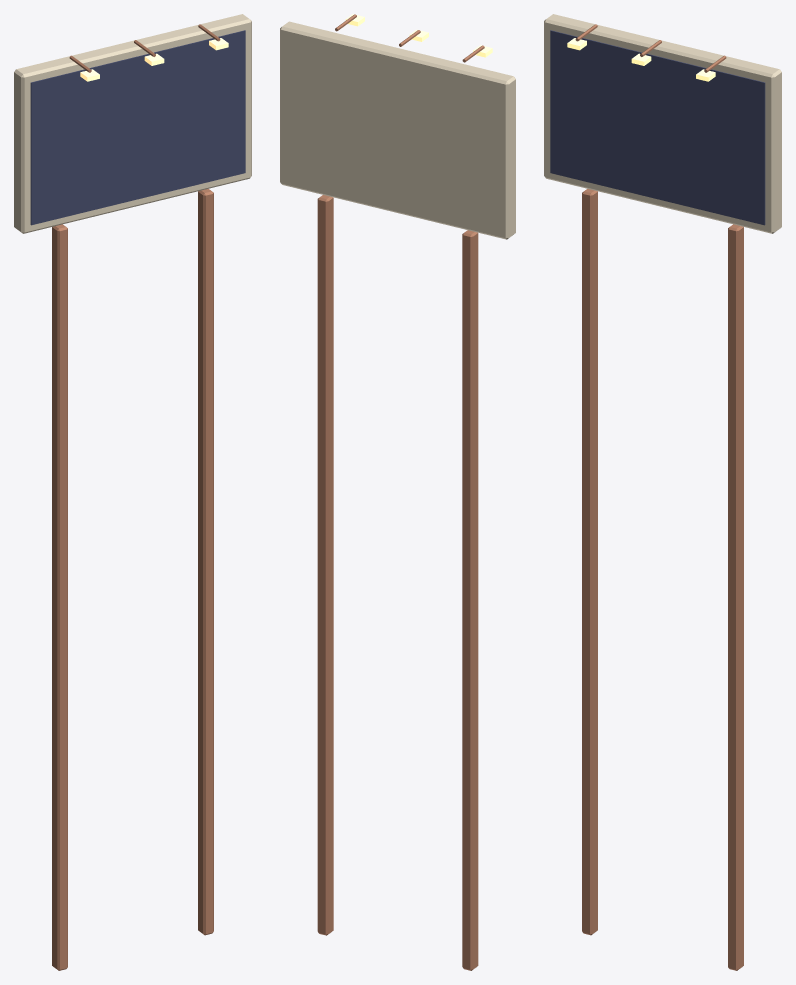
Rendered from sf4_billboard_1.glb.
3 renders of one model, left to right at view 1: azimuth 30°, elevation 25°; view 2: azimuth 150°, elevation 25°; view 3: azimuth 330°, elevation 25°, orthographic.
Visible parts, largest first — view 1: sf4_billboard_1__sf3-midnight-indigo, sf4_billboard_1__sf3-burnished-copper, sf4_billboard_1__sf3-warm-ivory, sf4_billboard_1__sf3-warm-window; view 2: sf4_billboard_1__sf3-warm-ivory, sf4_billboard_1__sf3-burnished-copper; view 3: sf4_billboard_1__sf3-midnight-indigo, sf4_billboard_1__sf3-burnished-copper, sf4_billboard_1__sf3-warm-ivory, sf4_billboard_1__sf3-warm-window.
Boxes of the visible parts, x1=… form: sf4_billboard_1__sf3-midnight-indigo: x1=30, y1=30, x2=245, y2=225; sf4_billboard_1__sf3-burnished-copper: x1=52, y1=24, x2=220, y2=970; sf4_billboard_1__sf3-warm-ivory: x1=14, y1=14, x2=251, y2=233; sf4_billboard_1__sf3-warm-window: x1=80, y1=38, x2=228, y2=81; sf4_billboard_1__sf3-warm-ivory: x1=280, y1=21, x2=515, y2=239; sf4_billboard_1__sf3-burnished-copper: x1=317, y1=14, x2=484, y2=970; sf4_billboard_1__sf3-midnight-indigo: x1=550, y1=30, x2=765, y2=225; sf4_billboard_1__sf3-burnished-copper: x1=575, y1=24, x2=743, y2=970; sf4_billboard_1__sf3-warm-ivory: x1=544, y1=14, x2=781, y2=233; sf4_billboard_1__sf3-warm-window: x1=567, y1=38, x2=715, y2=81.
Size of the model in its own units: 5.6 by 21.14 by 1.25.
